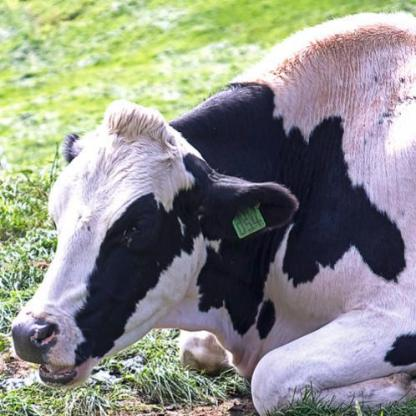cow: (14, 14, 416, 410)
